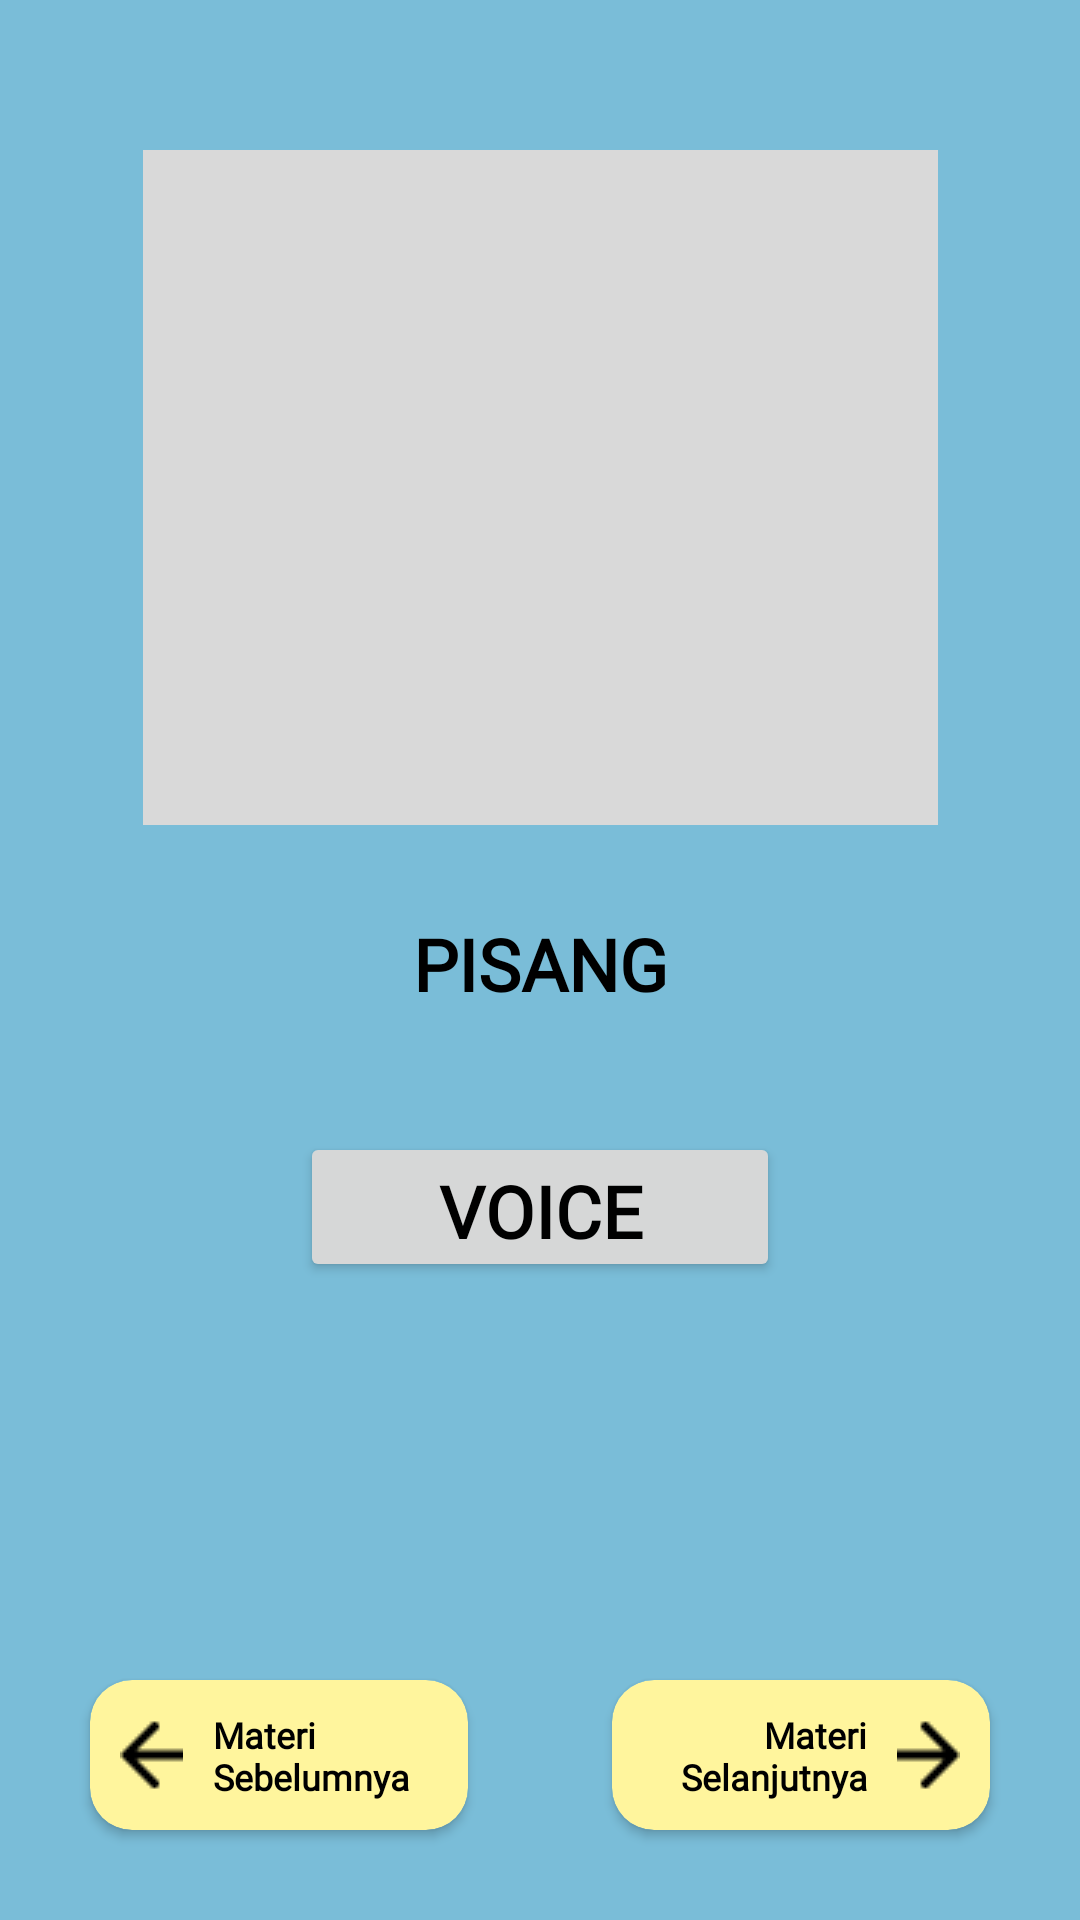

Icon click points for this 1080px x 1920px phone screenshot, format (x,y):
arrow: (151,1755), (928,1755)
